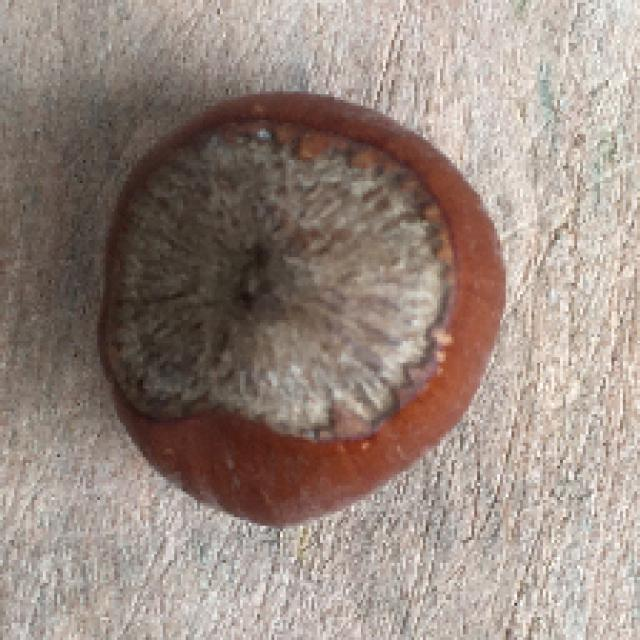qualityHazelnut: (94, 89, 508, 527)
